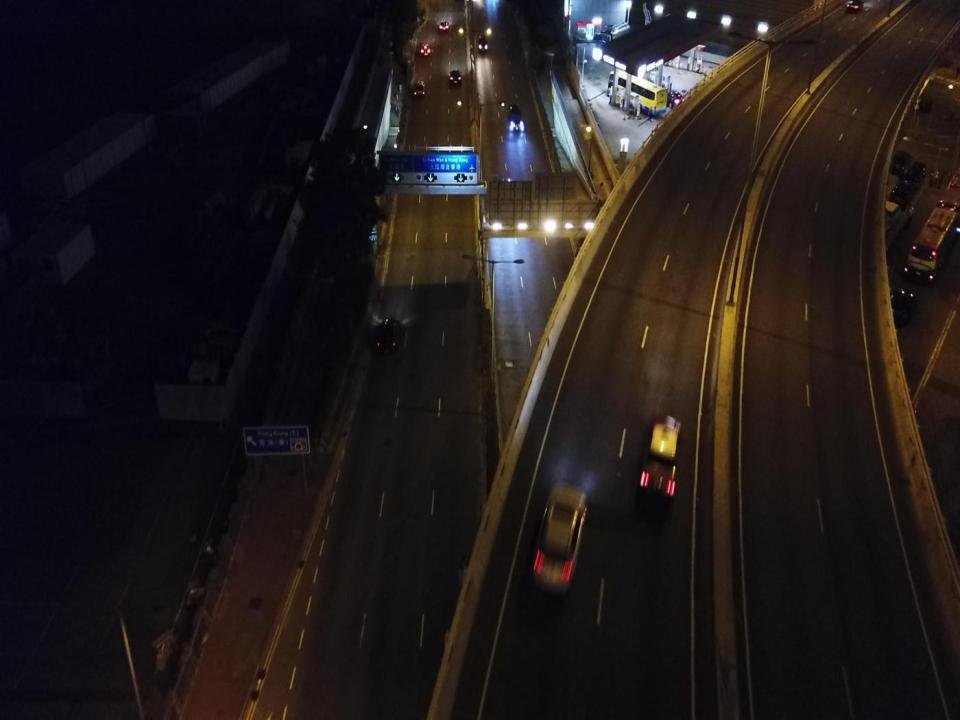bus: (904, 198, 960, 285), (606, 70, 668, 117)
car: (533, 482, 587, 596), (639, 414, 681, 508), (883, 287, 915, 330), (374, 314, 400, 354), (901, 159, 924, 191), (890, 150, 912, 174), (507, 104, 524, 134), (659, 90, 684, 109), (890, 183, 913, 203), (448, 68, 462, 87), (846, 0, 864, 14), (413, 79, 426, 98), (478, 34, 487, 52), (420, 43, 431, 57), (438, 20, 449, 32)
truck: (594, 22, 631, 56)
van: (873, 200, 901, 225)
